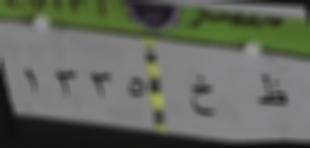1: (22, 62, 42, 99)
3: (83, 64, 116, 103), (52, 64, 79, 100)
5: (123, 69, 147, 105)
Thaa: (251, 68, 291, 117)
khaa: (184, 68, 218, 121)
